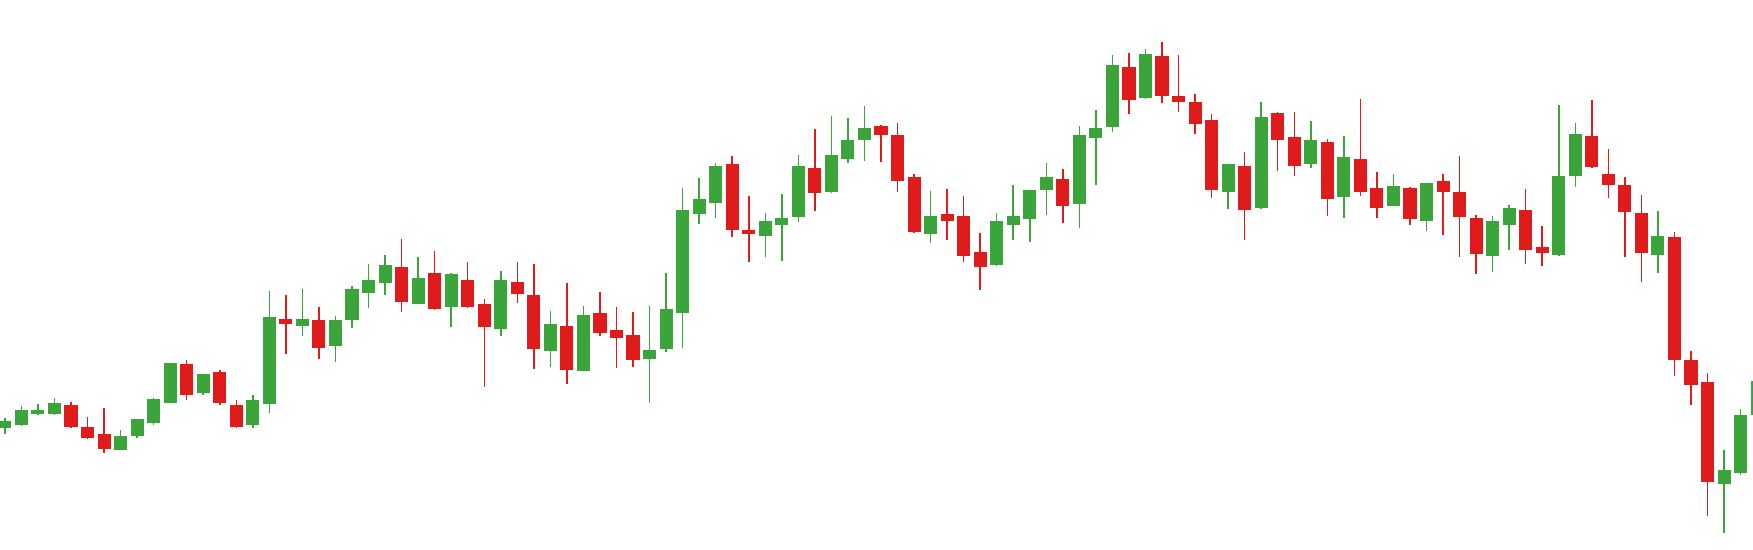buy: (307, 290, 509, 387), (558, 311, 657, 401)
sell: (1448, 104, 1600, 218)
